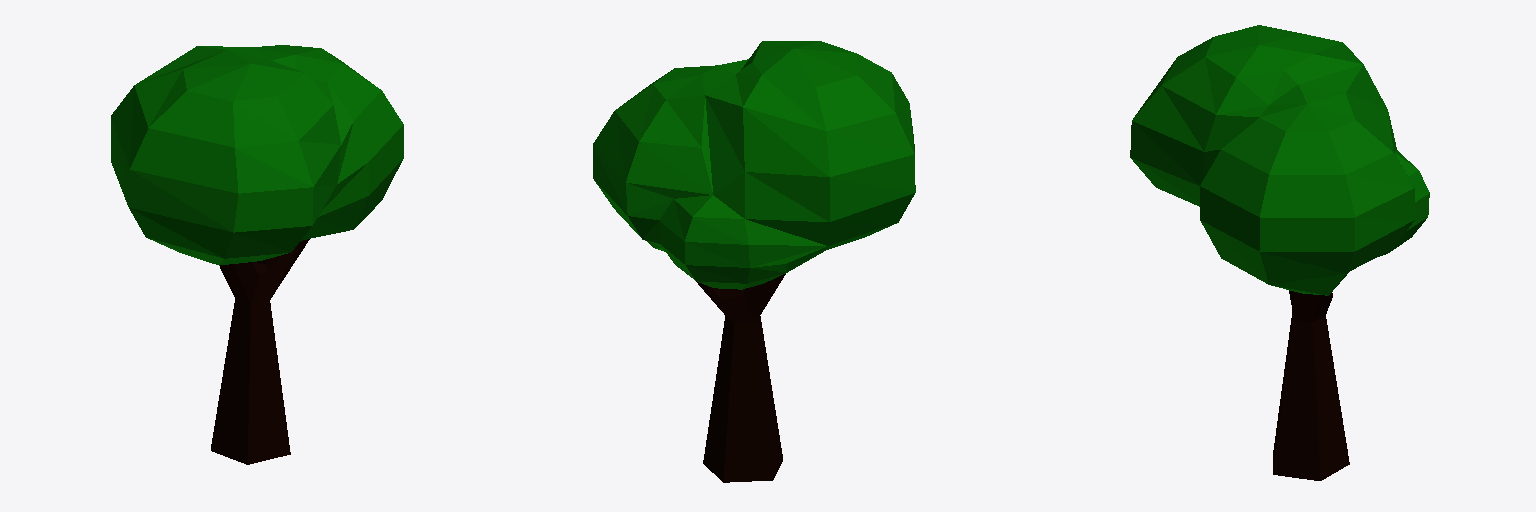
Rendered from tree2.obj.
3 views of the same model, side by side, from view 1: azimuth 30°, elevation 25°; view 2: azimuth 150°, elevation 25°; view 3: azimuth 270°, elevation 25° (orthographic).
Visible parts, largest first — view 1: tree_Circle.000; view 2: tree_Circle.000; view 3: tree_Circle.000.
Boxes of the visible parts, <box> form: tree_Circle.000: <box>111,45,403,464</box>; tree_Circle.000: <box>593,41,915,482</box>; tree_Circle.000: <box>1130,25,1429,480</box>.
Bounding box in the file's own units: 3.36 × 4.75 × 3.17.